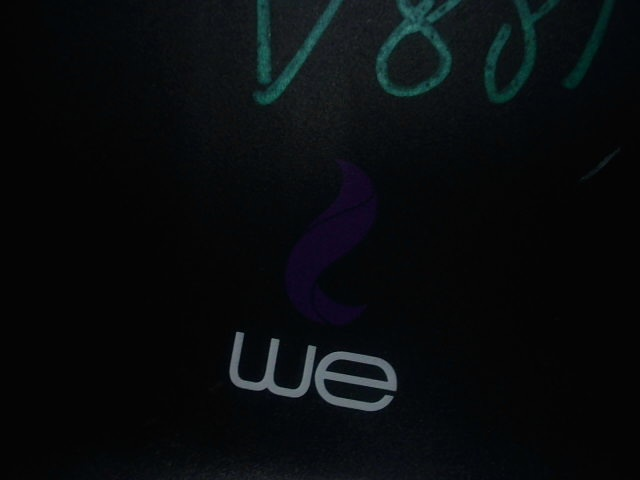AT_We: (220, 139, 439, 416)
